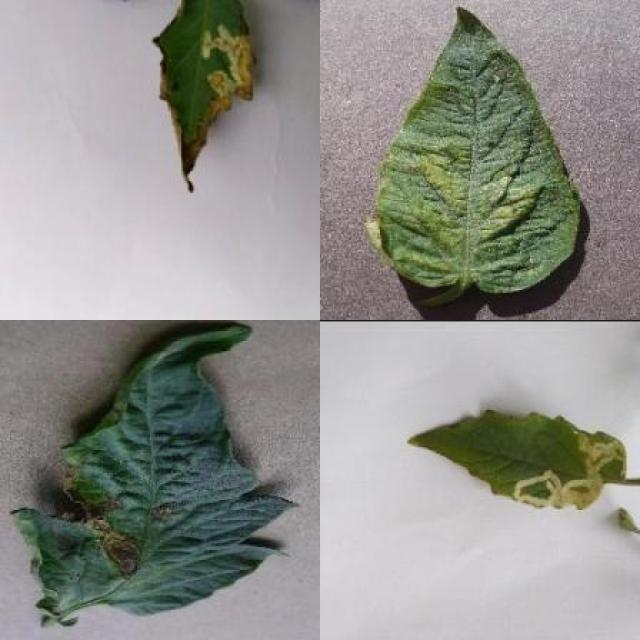Early Blight: (12, 324, 301, 616)
Leaf Miner: (410, 406, 627, 514), (150, 0, 255, 174)
Spider Mites: (368, 6, 583, 296)
